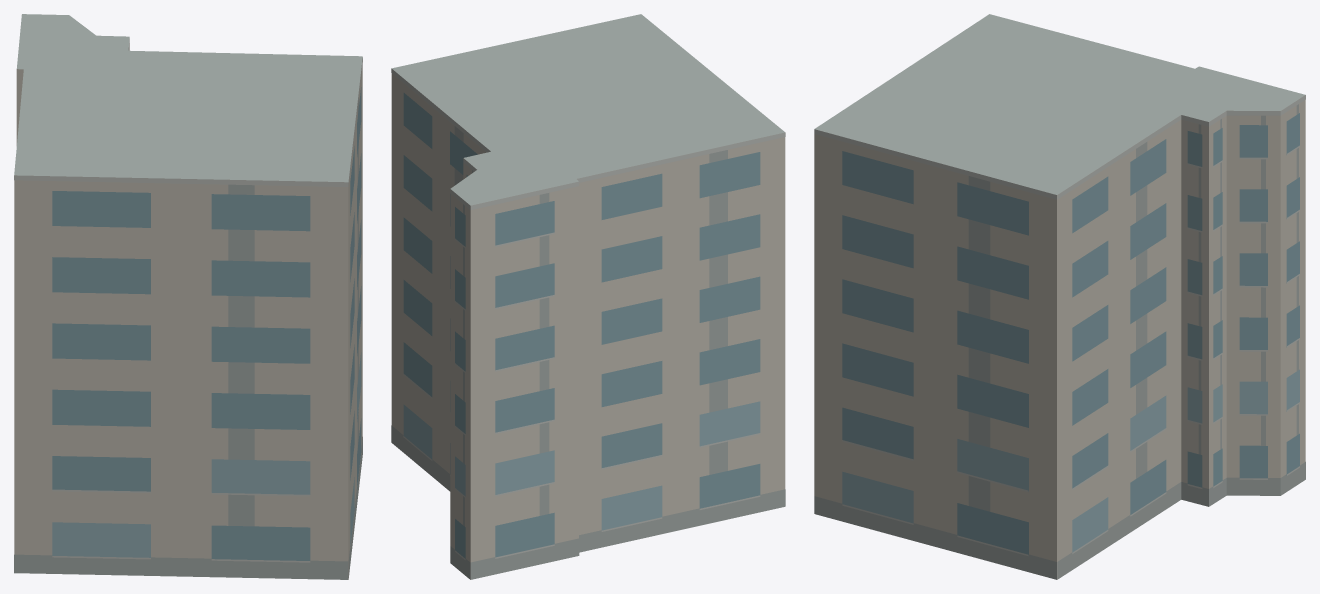
The model's file is survey-upis-32672382.glb.
The picture shows the model from 3 angles, left to right: view 1: azimuth 30°, elevation 25°; view 2: azimuth 150°, elevation 25°; view 3: azimuth 270°, elevation 25°; orthographic projection. The views are drawn at different scales.
Visible parts, largest first — view 1: survey-upis-32672382.tmp; view 2: survey-upis-32672382.tmp; view 3: survey-upis-32672382.tmp.
Part boxes in pixels (x1,y1,x2,y2): survey-upis-32672382.tmp: (14, 14, 362, 579); survey-upis-32672382.tmp: (391, 14, 785, 579); survey-upis-32672382.tmp: (814, 14, 1305, 579).
Bounding box in the file's own units: 20 × 19.8 × 22.93.
